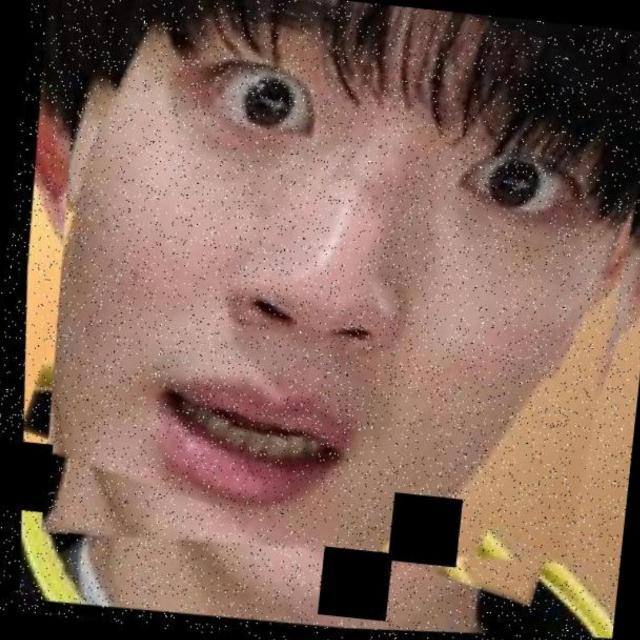Surprised: (130, 15, 571, 566)
